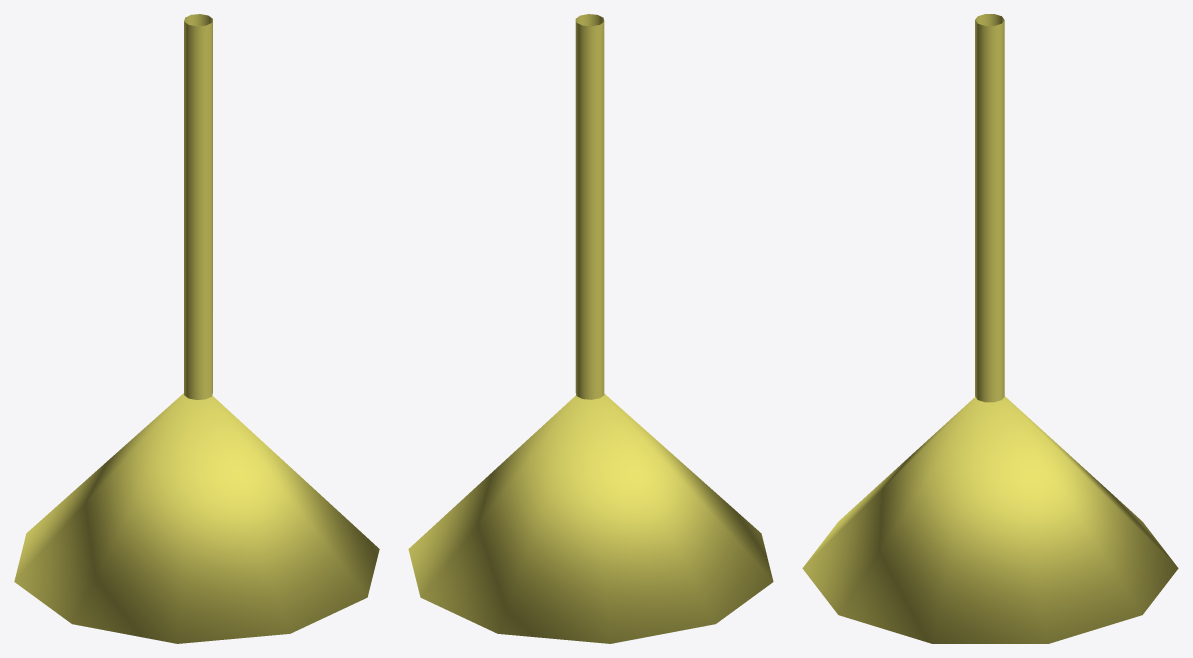
Rendered from Lamp2.fbx.
The picture shows the model from 3 angles, left to right: view 1: azimuth 30°, elevation 25°; view 2: azimuth 150°, elevation 25°; view 3: azimuth 270°, elevation 25°; orthographic projection.
Parts seen in each view (by area): view 1: lamp.002; view 2: lamp.002; view 3: lamp.002.
Part boxes in pixels (x1,y1,x2,y2): lamp.002: (14,14,379,643); lamp.002: (408,14,773,643); lamp.002: (802,14,1178,643).
Bounding box in the file's own units: 85.9 × 145 × 90.33.
